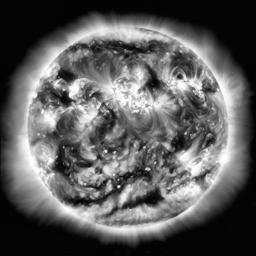solar flares: (105, 75, 148, 110), (178, 143, 209, 174), (162, 78, 207, 94), (163, 178, 198, 198), (108, 28, 158, 42), (35, 145, 59, 174), (106, 157, 141, 174), (77, 105, 102, 128), (36, 108, 59, 130), (153, 97, 167, 114), (71, 82, 85, 99)
sunspots: (104, 41, 153, 55), (183, 92, 207, 116), (124, 193, 162, 208), (58, 145, 79, 171), (174, 52, 192, 78), (46, 87, 71, 103), (161, 155, 180, 173), (104, 109, 116, 137), (146, 69, 161, 91), (176, 131, 187, 149), (69, 198, 108, 203), (60, 70, 75, 80), (203, 84, 216, 94), (204, 136, 216, 146)
